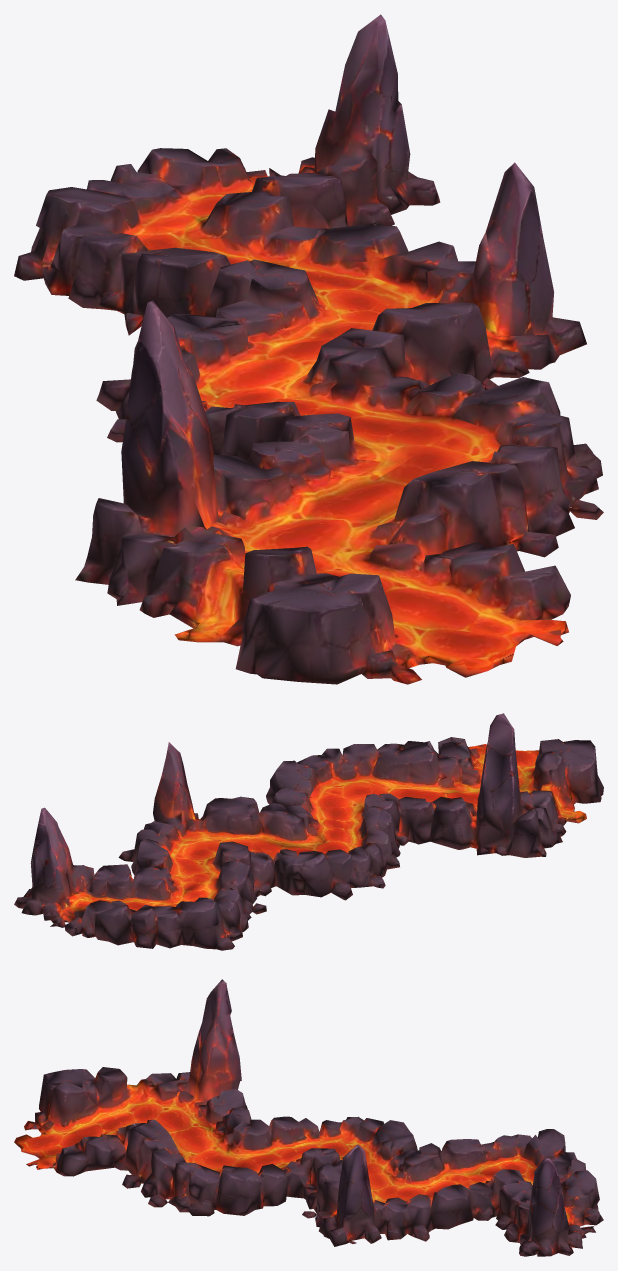
Rendered from lava_river_a.glb.
3 renders of one model, top to bottom at view 1: azimuth 30°, elevation 25°; view 2: azimuth 150°, elevation 25°; view 3: azimuth 270°, elevation 25°, orthographic. The views are drawn at different scales.
Visible parts, largest first — view 1: tripo_node_2c837524-89b3-4781-8ab6-6f493bb3cb99; view 2: tripo_node_2c837524-89b3-4781-8ab6-6f493bb3cb99; view 3: tripo_node_2c837524-89b3-4781-8ab6-6f493bb3cb99.
Part boxes in pixels (bbox=[...]): tripo_node_2c837524-89b3-4781-8ab6-6f493bb3cb99: bbox=[14, 14, 603, 684]; tripo_node_2c837524-89b3-4781-8ab6-6f493bb3cb99: bbox=[14, 713, 603, 950]; tripo_node_2c837524-89b3-4781-8ab6-6f493bb3cb99: bbox=[14, 979, 603, 1256].
Size of the model in its own units: 0.6467 by 0.2381 by 0.9729.
Materials: 1 (1 with a texture image).
